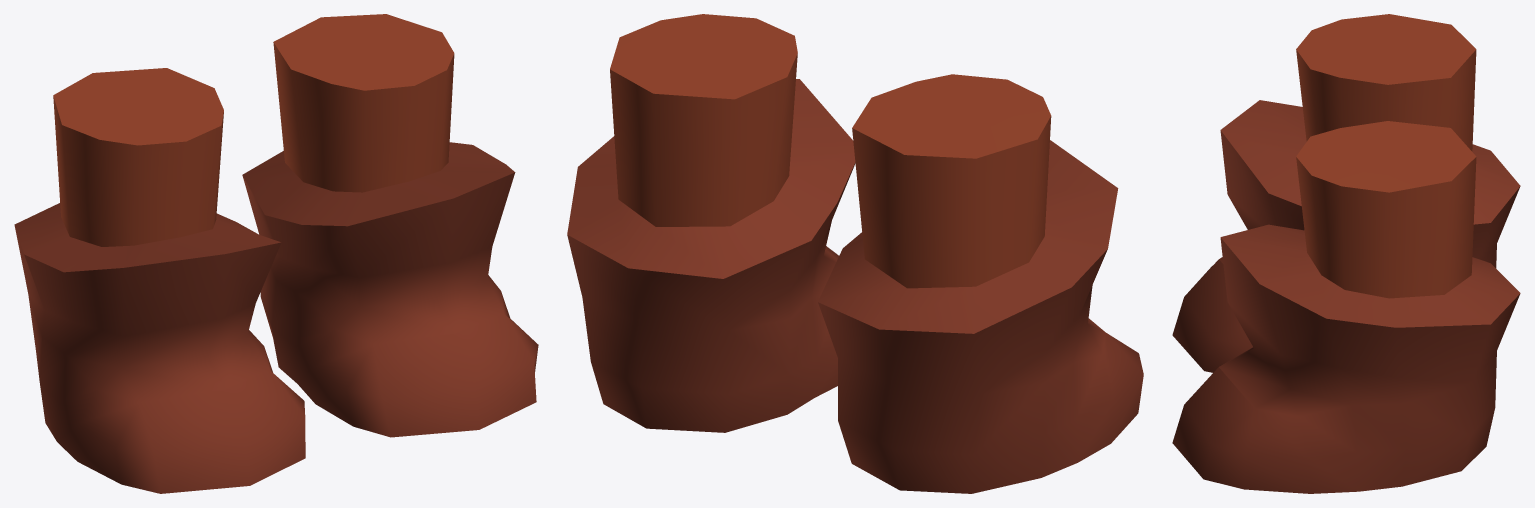
File: Shoes_31.fbx
The picture shows the model from 3 angles, left to right: view 1: azimuth 30°, elevation 25°; view 2: azimuth 150°, elevation 25°; view 3: azimuth 270°, elevation 25°; orthographic projection. The views are drawn at different scales.
Parts seen in each view (by area): view 1: Shoes_31; view 2: Shoes_31; view 3: Shoes_31.
Boxes of the visible parts, <box> form: Shoes_31: <box>14,14,538,493</box>; Shoes_31: <box>567,14,1143,493</box>; Shoes_31: <box>1172,14,1520,493</box>.
Size of the model in its own units: 39.33 by 25.19 by 27.44.
